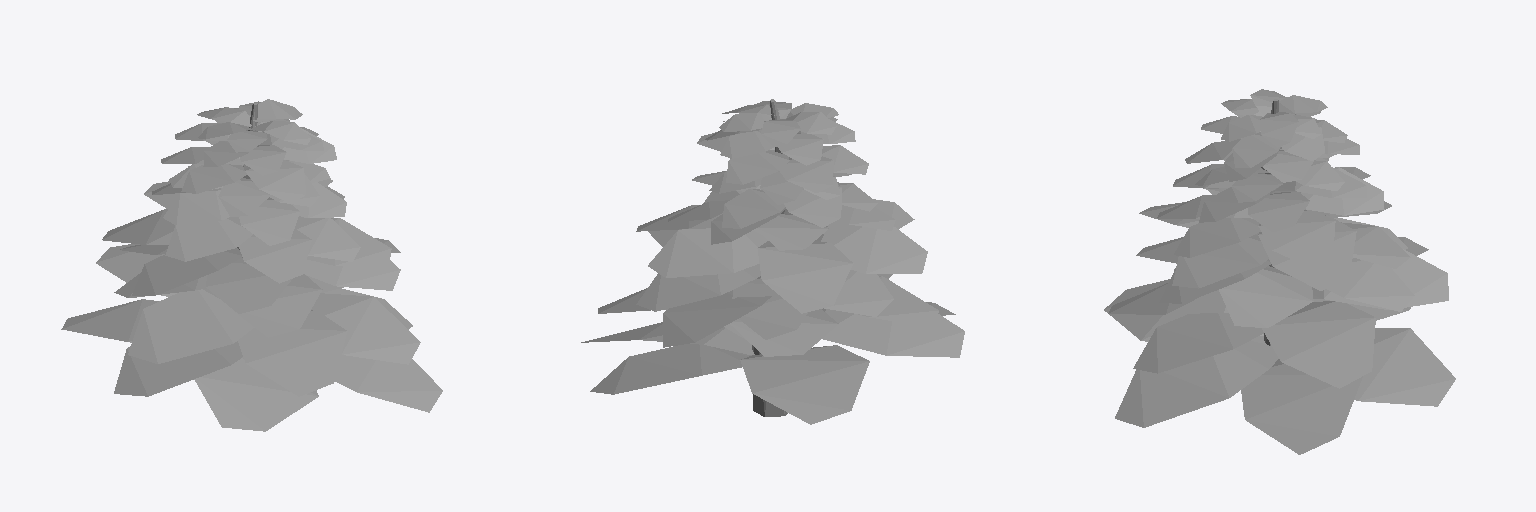
File: bigBoiTree.obj
The picture shows the model from 3 angles: view 1: azimuth 30°, elevation 25°; view 2: azimuth 150°, elevation 25°; view 3: azimuth 270°, elevation 25°; orthographic projection.
Bounding box in the file's own units: 7.11 × 6.28 × 6.49.